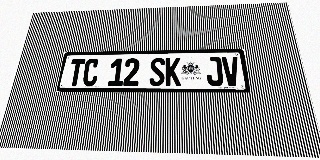1: (108, 58, 125, 86)
2: (123, 58, 140, 86)
C: (82, 59, 100, 86)
J: (205, 57, 224, 86)
K: (165, 57, 181, 86)
S: (149, 58, 165, 86)
T: (67, 59, 86, 86)
V: (221, 57, 241, 86)
